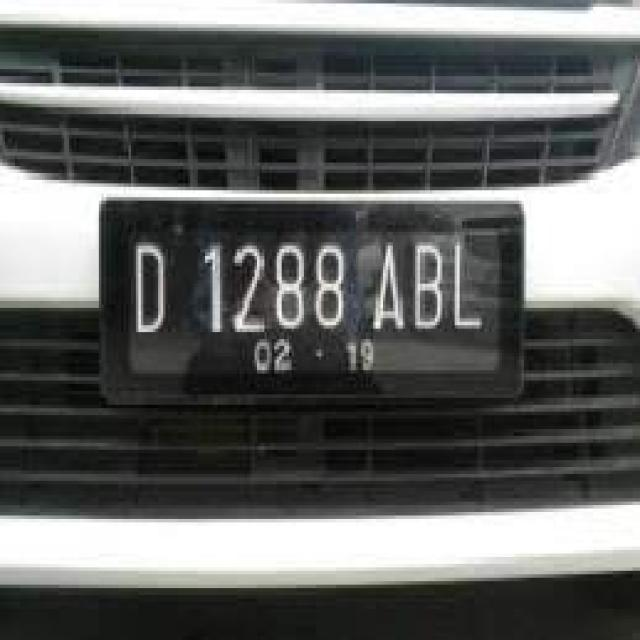license-plat: (101, 202, 518, 396)
